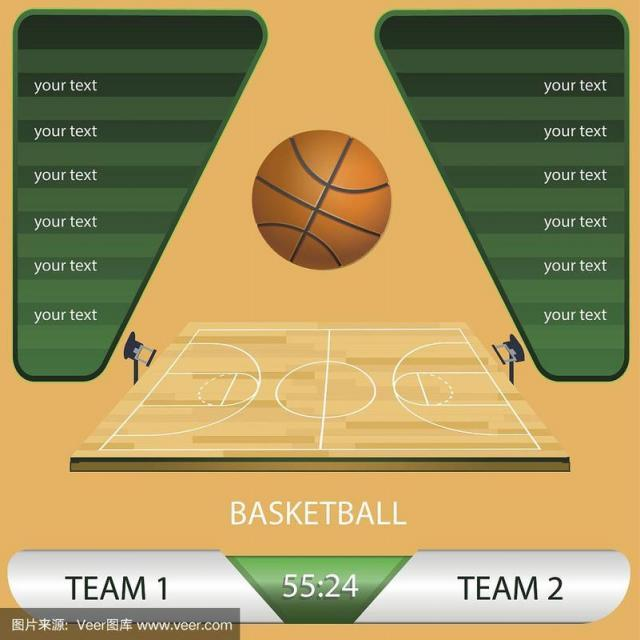rim: (254, 129, 390, 268)
